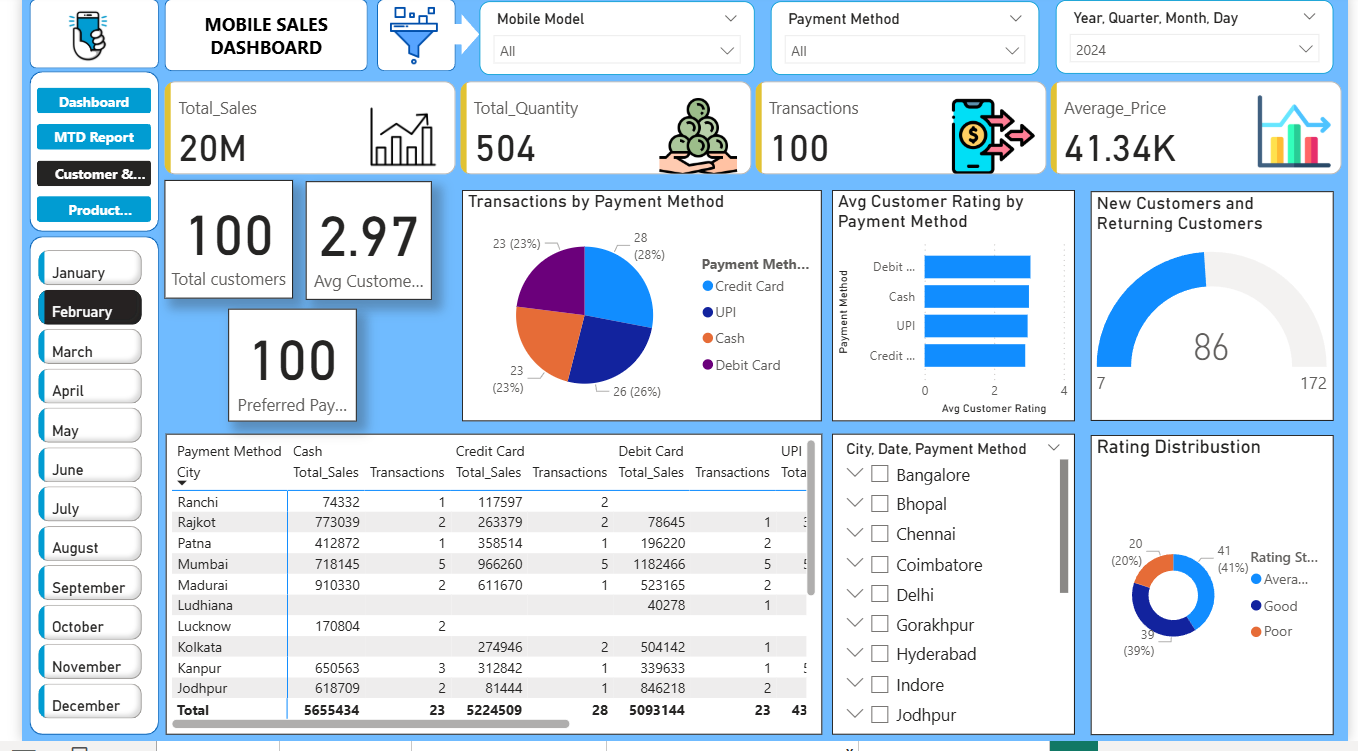

This screenshot's page, from the dashboard's own definition file:
{"tool":"powerbi","page":{"name":"Customer & Payment Insights","canvas":[1280,720],"ordinal":3},"visuals":[{"type":"pieChart","fields":{"Category":["Sales_Data.Payment Method"],"Y":["Sales_Data.Transactions"]},"box":[424.7,188.2,347.5,223.2],"z":0},{"type":"pivotTable","fields":{"Rows":["Sales_Data.City"],"Columns":["Sales_Data.Payment Method"],"Values":["Sales_Data.Total_Sales","Sales_Data.Transactions"]},"box":[138.7,423.5,633.4,290.8],"z":1000},{"type":"clusteredBarChart","fields":{"Category":["Sales_Data.Payment Method"],"Y":["Sales_Data.Avg Customer Rating"]},"box":[781.8,188.2,234,223.2],"z":2000},{"type":"gauge","fields":{"Y":["Sales_Data.New Customers"],"MinValue":["Sales_Data.Returning Customers"]},"box":[1031.5,189.4,234,222],"z":3000},{"type":"donutChart","title":"Rating Distribustion","fields":{"Category":["Sales_Data.Rating Status"],"Y":["Sales_Data.Transactions"]},"box":[1031.5,424.7,234,289.5],"z":4000},{"type":"slicer","fields":{"Values":["Sales_Data.City","Custom_Calendar.Date","Sales_Data.Payment Method"]},"box":[781.8,423.5,234,290.8],"z":5000},{"type":"shape","box":[7.5,3.8,125,67.5],"z":6000},{"type":"image","box":[23.8,3.8,78.8,71.2],"z":7000},{"type":"shape","box":[137.5,3.8,196.2,70],"z":8000},{"type":"shape","box":[342.6,3.6,76,70],"z":9000},{"type":"image","box":[337.8,6,80.8,66.4],"z":10000},{"type":"shape","box":[406.6,18.1,35,39.8],"z":11000},{"type":"shape","box":[7.5,73.8,125,155],"z":12000},{"type":"pageNavigator","box":[15,88.8,110,130],"z":13000},{"type":"shape","box":[7.5,232.5,125,481.2],"z":14000},{"type":"advancedSlicerVisual","fields":{"Values":["Custom_Calendar.Date.Variation.Date Hierarchy.Month"]},"box":[11.2,241.2,110,472.5],"z":15000},{"type":"cardVisual","fields":{"Data":["Sales_Data.Total_Sales","Sales_Data.Total_Quantity","Sales_Data.Transactions","Sales_Data.Average_Price"]},"box":[132.7,78.4,1147.3,100.1],"z":16000},{"type":"card","fields":{"Values":["Sales_Data.Total customers"]},"box":[137.5,178.6,124.3,114.6],"z":17000},{"type":"card","fields":{"Values":["Sales_Data.Avg Customer Rating"]},"box":[273.9,179.8,121.9,114.6],"z":18000},{"type":"card","fields":{"Values":["Sales_Data.Preferred Payment Method"]},"box":[199.1,302.8,124.3,108.6],"z":19000},{"type":"slicer","fields":{"Values":["Sales_Data.Mobile Model"]},"box":[441.6,6,265.4,71.2],"z":20000},{"type":"slicer","fields":{"Values":["Sales_Data.Payment Method"]},"box":[722.7,6,259.4,71.2],"z":21000},{"type":"slicer","fields":{"Values":["Custom_Calendar.Date.Variation.Date Hierarchy.Year","Custom_Calendar.Date.Variation.Date Hierarchy.Quarter","Custom_Calendar.Date.Variation.Date Hierarchy.Month","Custom_Calendar.Date.Variation.Date Hierarchy.Day"]},"box":[997.7,4.8,267.8,71.2],"z":22000}]}

Visuals, with their boxes on the page's 1280x720 design canvas (x1, y1, x2, y2). These are canvas units, not pixel positions in the 1358x751 screenshot, which may show the page scaled, cropped or inside an application window:
pieChart - Sales_Data.Payment Method x Sales_Data.Transactions: BBox(425, 188, 772, 411)
pivotTable - Sales_Data.City x Sales_Data.Payment Method: BBox(139, 424, 772, 714)
clusteredBarChart - Sales_Data.Payment Method x Sales_Data.Avg Customer Rating: BBox(782, 188, 1016, 411)
gauge - Sales_Data.New Customers x Sales_Data.Returning Customers: BBox(1032, 189, 1266, 411)
"Rating Distribustion" donutChart: BBox(1032, 425, 1266, 714)
slicer - Sales_Data.City x Custom_Calendar.Date: BBox(782, 424, 1016, 714)
shape: BBox(8, 4, 132, 71)
image: BBox(24, 4, 103, 75)
shape: BBox(138, 4, 334, 74)
shape: BBox(343, 4, 419, 74)
image: BBox(338, 6, 419, 72)
shape: BBox(407, 18, 442, 58)
shape: BBox(8, 74, 132, 229)
pageNavigator: BBox(15, 89, 125, 219)
shape: BBox(8, 232, 132, 714)
advancedSlicerVisual - Custom_Calendar.Date.Variation.Date Hierarchy.Month: BBox(11, 241, 121, 714)
cardVisual - Sales_Data.Total_Sales x Sales_Data.Total_Quantity: BBox(133, 78, 1280, 178)
card - Sales_Data.Total customers: BBox(138, 179, 262, 293)
card - Sales_Data.Avg Customer Rating: BBox(274, 180, 396, 294)
card - Sales_Data.Preferred Payment Method: BBox(199, 303, 323, 411)
slicer - Sales_Data.Mobile Model: BBox(442, 6, 707, 77)
slicer - Sales_Data.Payment Method: BBox(723, 6, 982, 77)
slicer - Custom_Calendar.Date.Variation.Date Hierarchy.Year x Custom_Calendar.Date.Variation.Date Hierarchy.Quarter: BBox(998, 5, 1266, 76)
